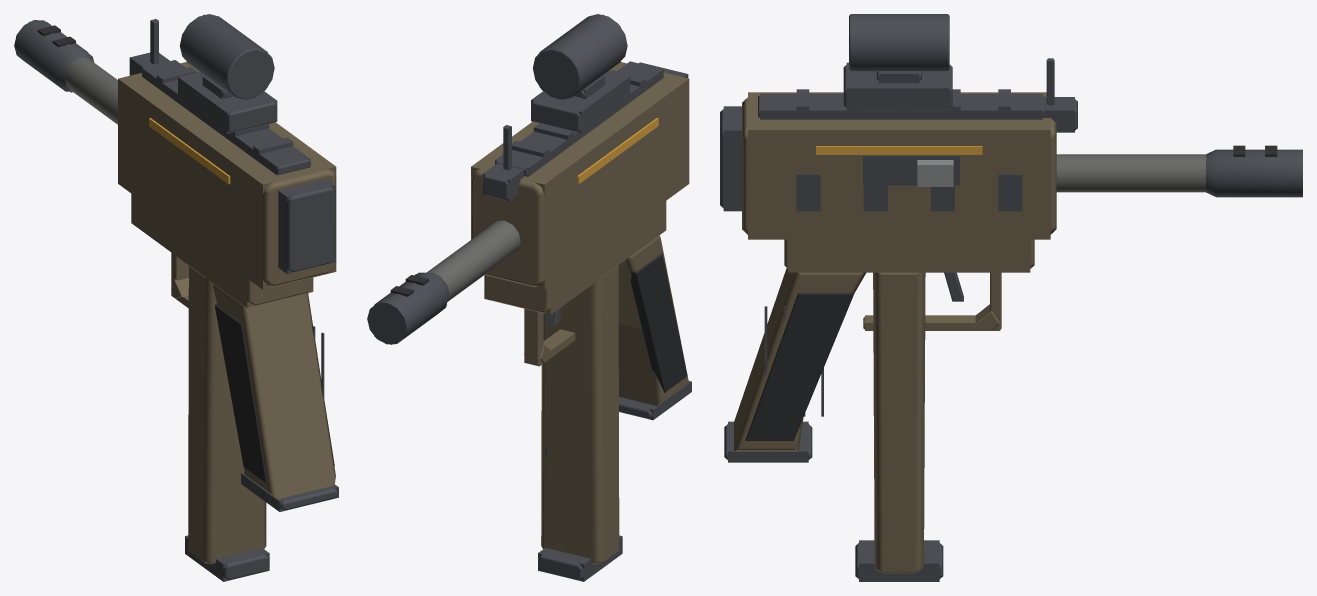
File: swarm.glb
3 renders of one model, left to right at view 1: azimuth 30°, elevation 25°; view 2: azimuth 150°, elevation 25°; view 3: azimuth 270°, elevation 25°, orthographic. The views are drawn at different scales.
Parts seen in each view (by area): view 1: L0, L1; view 2: L0, L1; view 3: L0, L1.
Boxes of the visible parts, x1,y1,x2,y2 form: L0: [14, 14, 338, 580]; L1: [16, 14, 338, 581]; L0: [367, 14, 691, 580]; L1: [367, 14, 691, 581]; L0: [720, 14, 1302, 578]; L1: [723, 16, 1302, 581].
Bounding box in the file's own units: 0.0517 × 0.303 × 0.2888.
